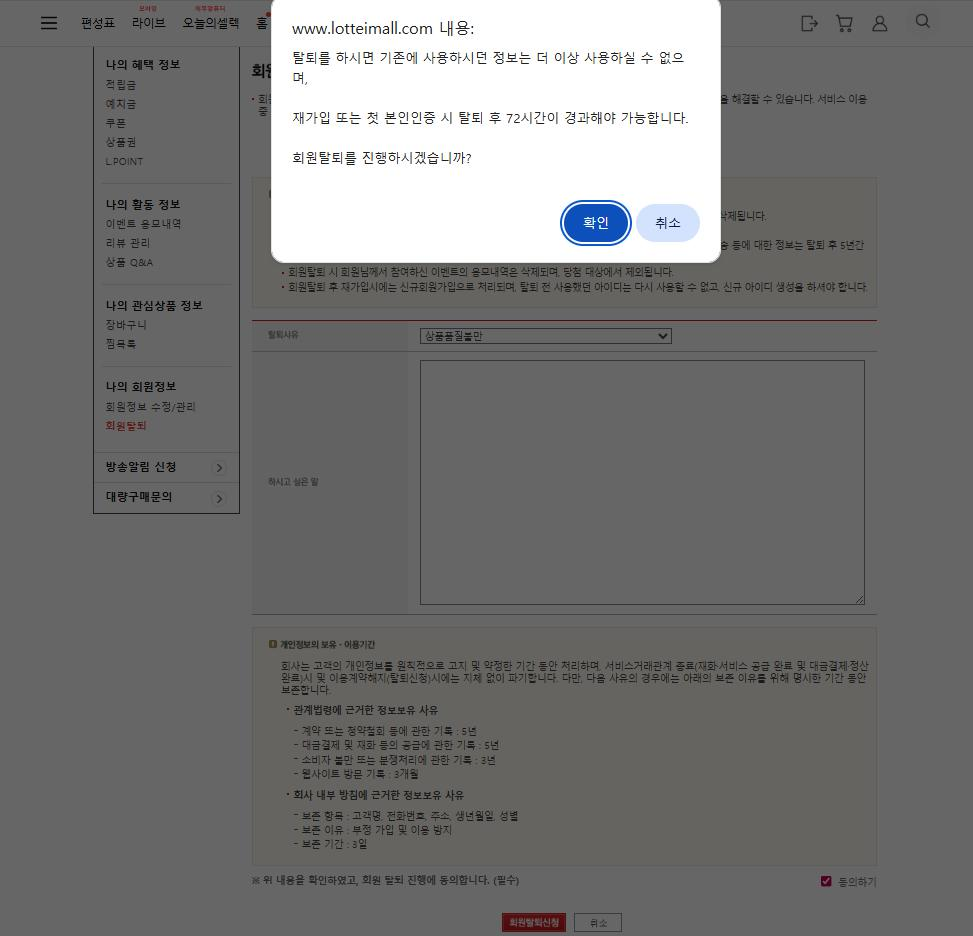button: (561, 194, 631, 247), (97, 486, 232, 510), (636, 200, 701, 247), (98, 456, 230, 479), (182, 0, 241, 37), (75, 3, 124, 46), (128, 0, 174, 42), (502, 907, 568, 936), (103, 397, 201, 416), (25, 2, 68, 42), (102, 212, 190, 230), (572, 907, 623, 936), (906, 1, 944, 38), (103, 232, 168, 251), (103, 252, 163, 272), (867, 7, 901, 41), (832, 3, 863, 39), (791, 7, 826, 38), (100, 419, 159, 437), (102, 314, 152, 335), (103, 132, 148, 152), (104, 154, 153, 171), (105, 70, 139, 93), (103, 335, 142, 354), (104, 94, 141, 111), (104, 114, 133, 130)
checkbox: (416, 326, 676, 347), (818, 867, 885, 895)
input_field: (256, 355, 873, 610)
popup: (271, 0, 723, 264)
